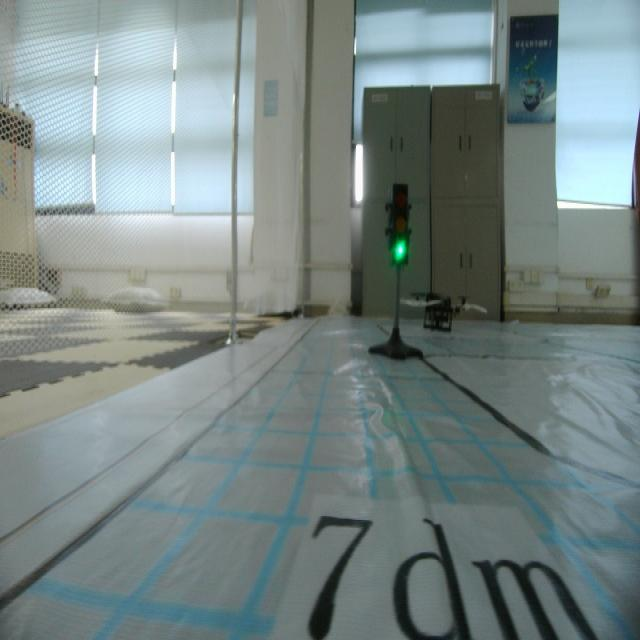green: (385, 181, 413, 268)
